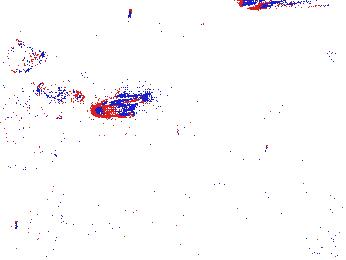X-ray fish: (1, 38, 49, 75)
red belly glassfish: (90, 91, 147, 120), (29, 79, 85, 104), (324, 49, 344, 72)
redtail glassfish: (238, 1, 323, 14)
